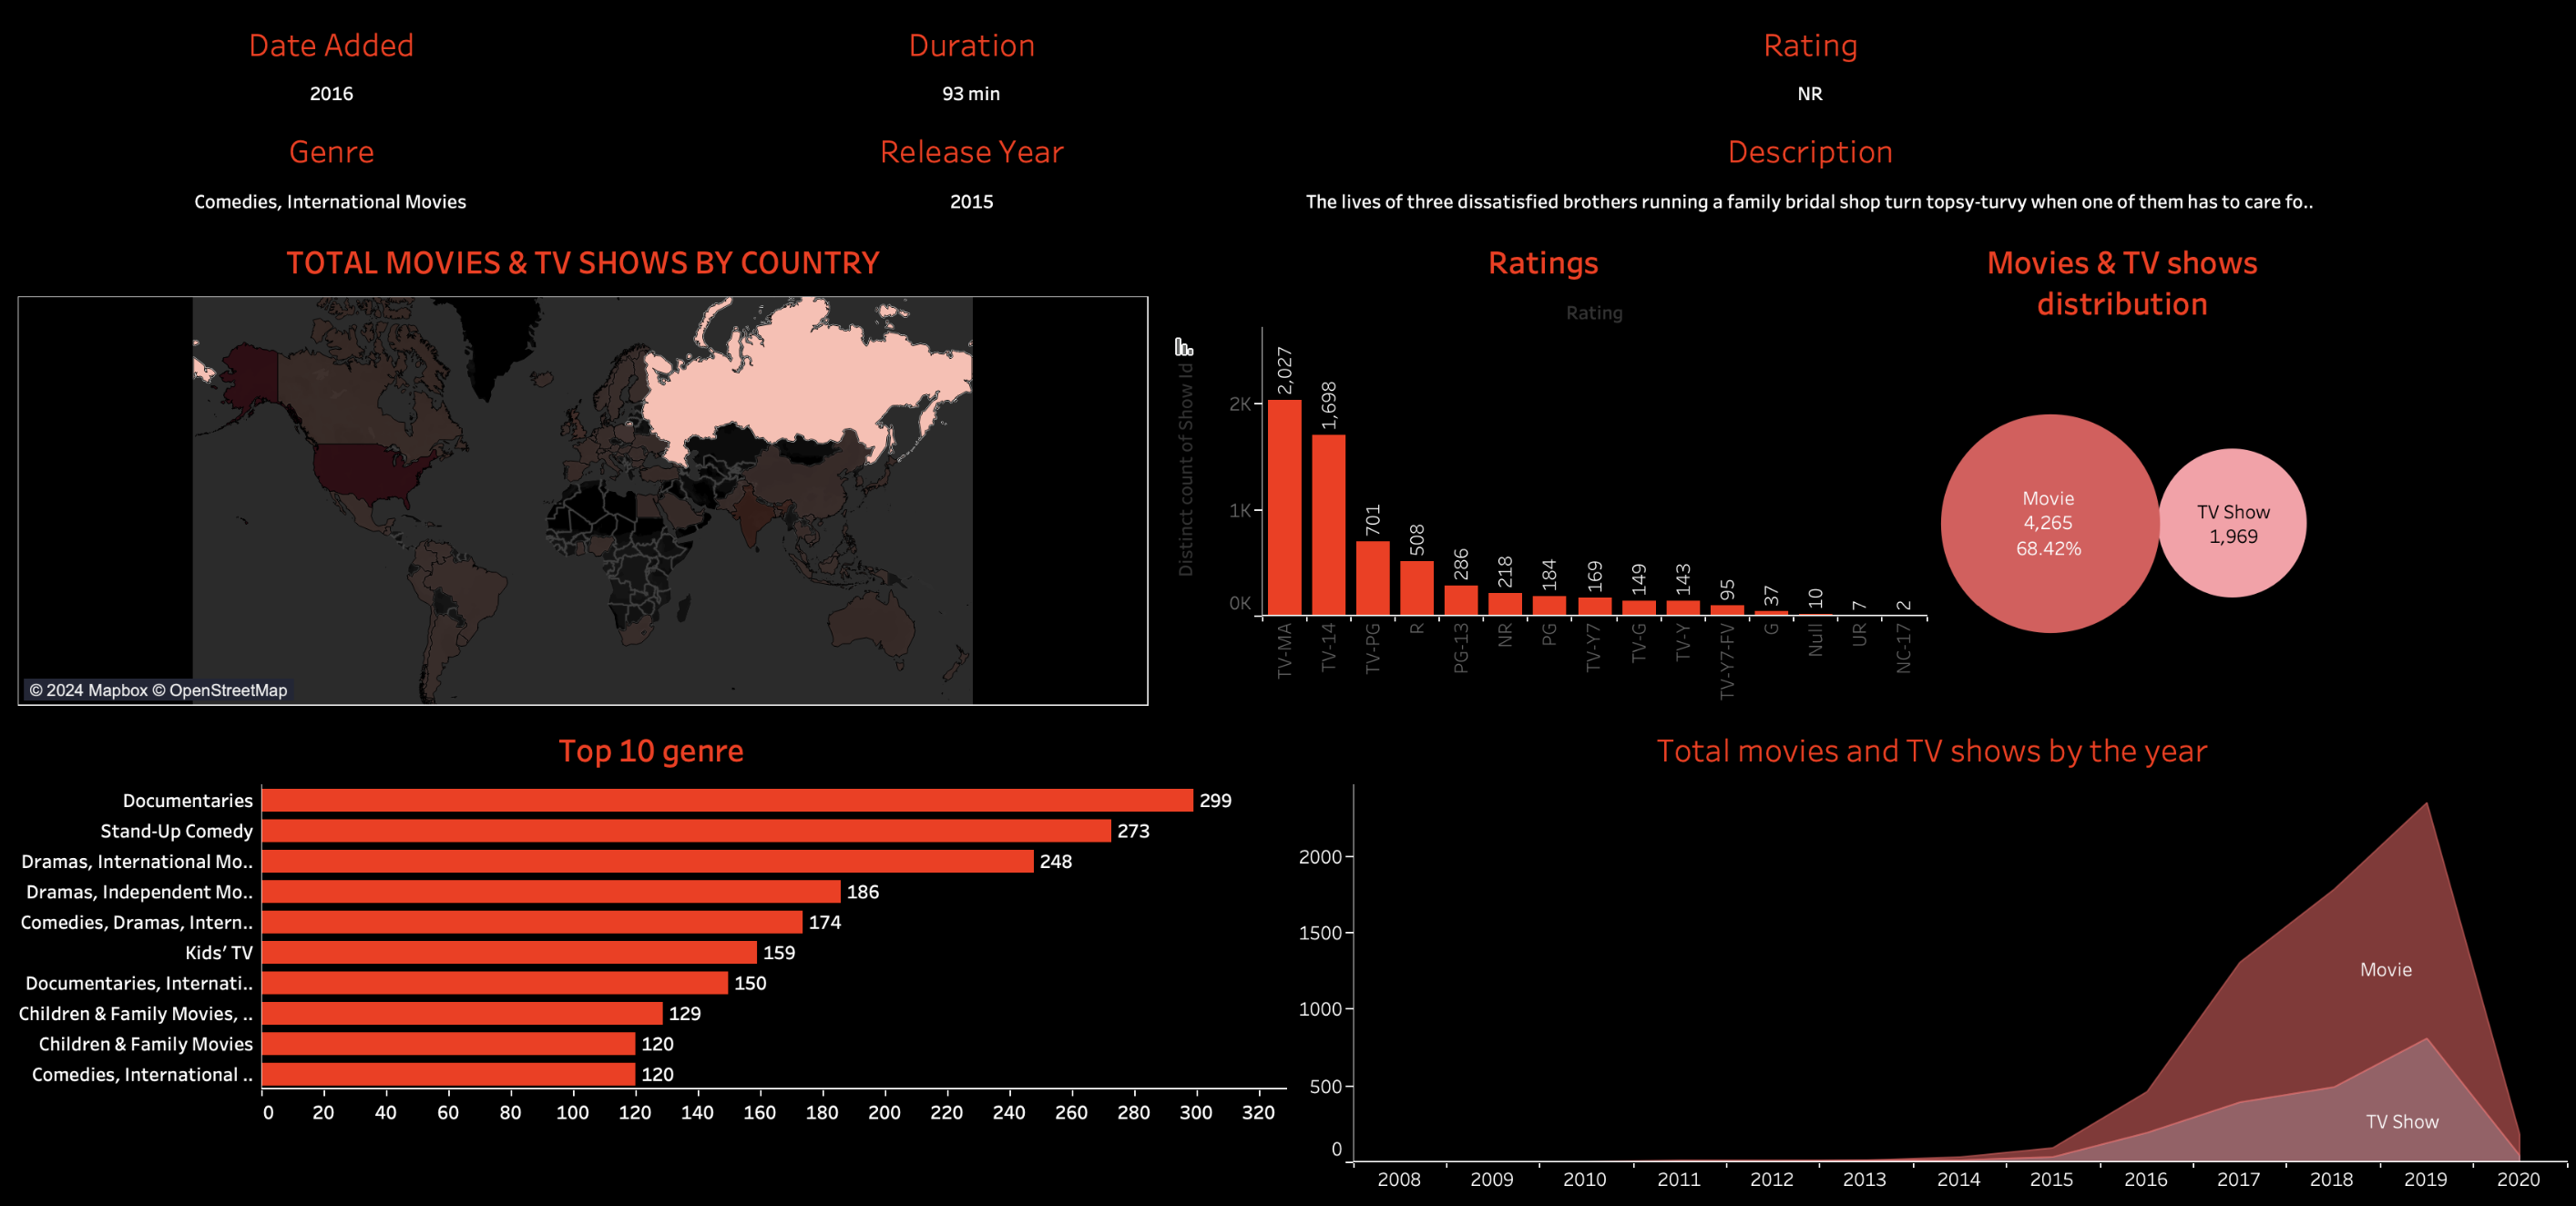

Layout of this report page (visuals, bound fields, positions):
{"tool":"tableau","page":{"name":"Netflix","canvas":[1700,800],"ordinal":0},"visuals":[{"type":"worksheet","title":"Date Added","mark":"Automatic","box":[8,8,421,70]},{"type":"worksheet","title":"Duration","mark":"Automatic","box":[429,8,421,70]},{"type":"worksheet","title":"Rating","mark":"Automatic","box":[850,8,682,70]},{"type":"filter","title":"Description","param":"[federated.035t3p410foye10zr9kli01zdhy2].[none:title:nk]","box":[1532,8,160,70]},{"type":"worksheet","title":"Genre","mark":"Automatic","box":[8,78,421,73]},{"type":"worksheet","title":"Release Year","mark":"Automatic","box":[429,78,421,73]},{"type":"worksheet","title":"Description","mark":"Automatic","box":[850,78,682,73]},{"type":"filter","title":"Date Added","param":"[federated.035t3p410foye10zr9kli01zdhy2].[none:type:nk]","box":[1532,78,160,73]},{"type":"worksheet","title":"TOTAL movies and TV shows per country","mark":"Multipolygon","box":[8,151,752,320.5]},{"type":"worksheet","title":"Ratings","mark":"Automatic","rows":["show_id"],"cols":["rating"],"box":[760,151,511,320.5]},{"type":"worksheet","title":"Movies & TV shows distribution","mark":"Circle","box":[1271,151,421,320.5]},{"type":"worksheet","title":"Top 10 genre","mark":"Automatic","rows":["listed_in"],"cols":["show_id"],"box":[8,471.5,842,320.5]},{"type":"worksheet","title":"Total movies & TV show by years","mark":"Area","rows":["show_id"],"cols":["date_added"],"box":[850,471.5,842,320.5]}]}

Visuals, with their boxes in screenshot pixels (x1, y1, x2, y2), scaled from the page's 1700x800 canvas onto the 2576x1206 screenshot:
"Date Added" worksheet: 12,12,650,118
"Duration" worksheet: 650,12,1288,118
"Rating" worksheet: 1288,12,2322,118
"Description" filter: 2322,12,2564,118
"Genre" worksheet: 12,118,650,228
"Release Year" worksheet: 650,118,1288,228
"Description" worksheet: 1288,118,2322,228
"Date Added" filter: 2322,118,2564,228
"TOTAL movies and TV shows per country" worksheet (Multipolygon marks): 12,228,1151,710
"Ratings" worksheet: 1151,228,1926,710
"Movies & TV shows distribution" worksheet (Circle marks): 1926,228,2564,710
"Top 10 genre" worksheet: 12,710,1288,1194
"Total movies & TV show by years" worksheet (Area marks): 1288,710,2564,1194
